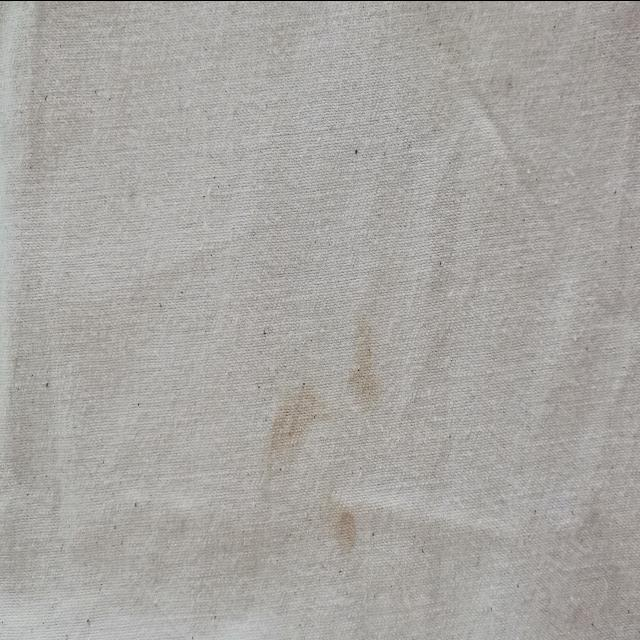taaaches: (340, 282, 406, 438), (258, 358, 336, 487), (330, 494, 372, 582)
